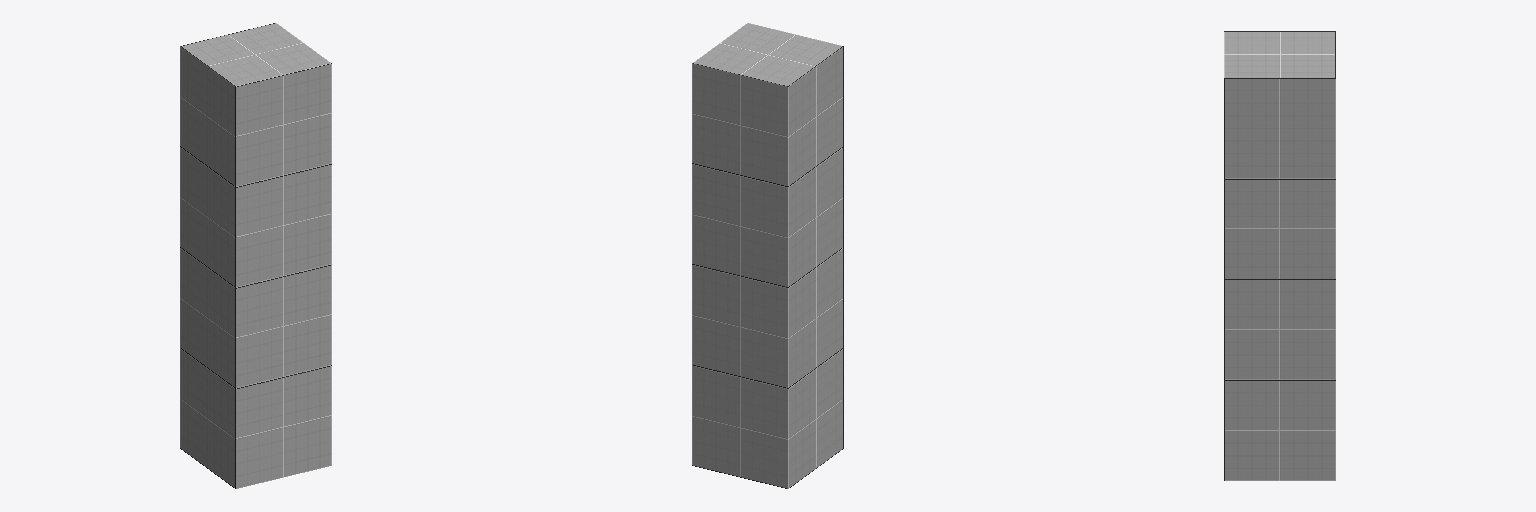
3 renders of one model, left to right at view 1: azimuth 30°, elevation 25°; view 2: azimuth 150°, elevation 25°; view 3: azimuth 270°, elevation 25°, orthographic.
Parts seen in each view (by area): view 1: Cube; view 2: Cube; view 3: Cube.
Part boxes in pixels (left/top/right/bottom): Cube: left=180, top=23, right=331, bottom=488; Cube: left=692, top=23, right=843, bottom=488; Cube: left=1224, top=31, right=1335, bottom=480.
Size of the model in its own units: 4 by 16 by 4.
Materials: 1 (1 with a texture image).